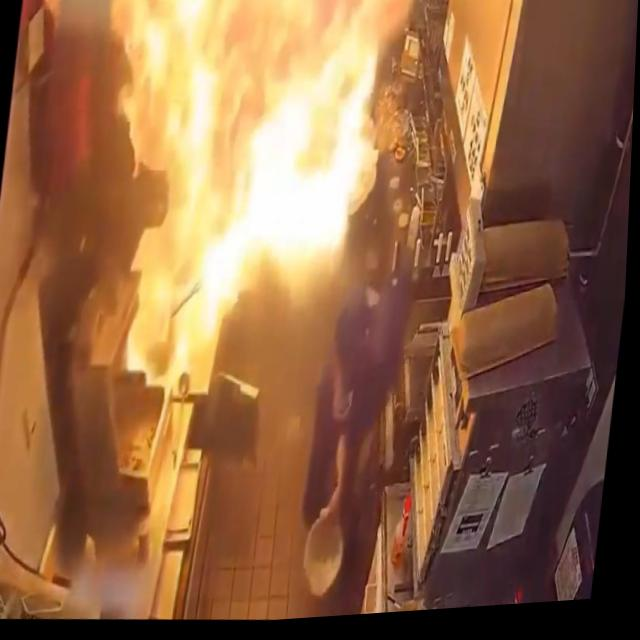fire: (62, 0, 430, 370)
